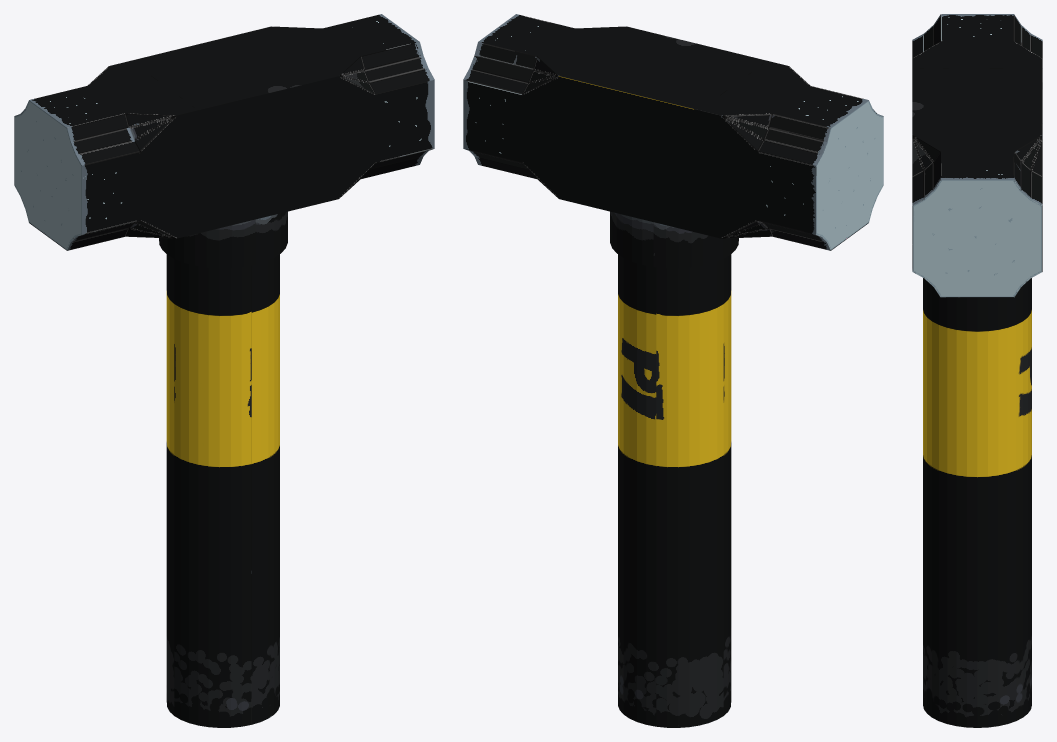
Rendered from hammer.fbx.
The picture shows the model from 3 angles, left to right: view 1: azimuth 30°, elevation 25°; view 2: azimuth 150°, elevation 25°; view 3: azimuth 270°, elevation 25°; orthographic projection. The views are drawn at different scales.
Parts seen in each view (by area): view 1: Circle; view 2: Circle; view 3: Circle.
Boxes of the visible parts, left/top/right/bottom form: Circle: left=14, top=14, right=434, bottom=727; Circle: left=463, top=14, right=883, bottom=727; Circle: left=912, top=14, right=1042, bottom=727.
Bounding box in the file's own units: 601 × 1029 × 200.
Materials: 2 (2 with a texture image).
